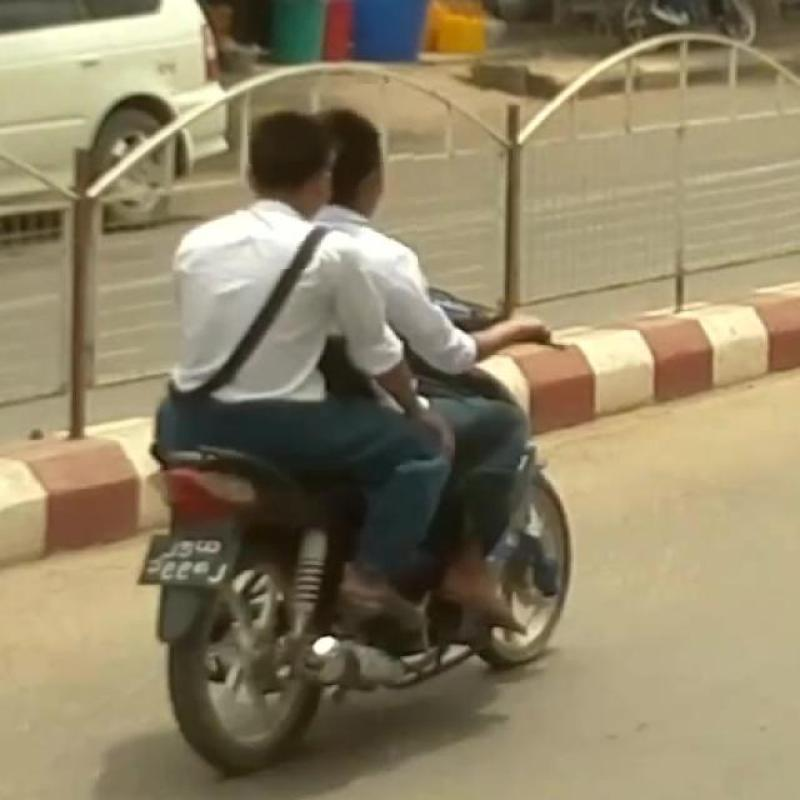nohelmet: (248, 85, 417, 269)
